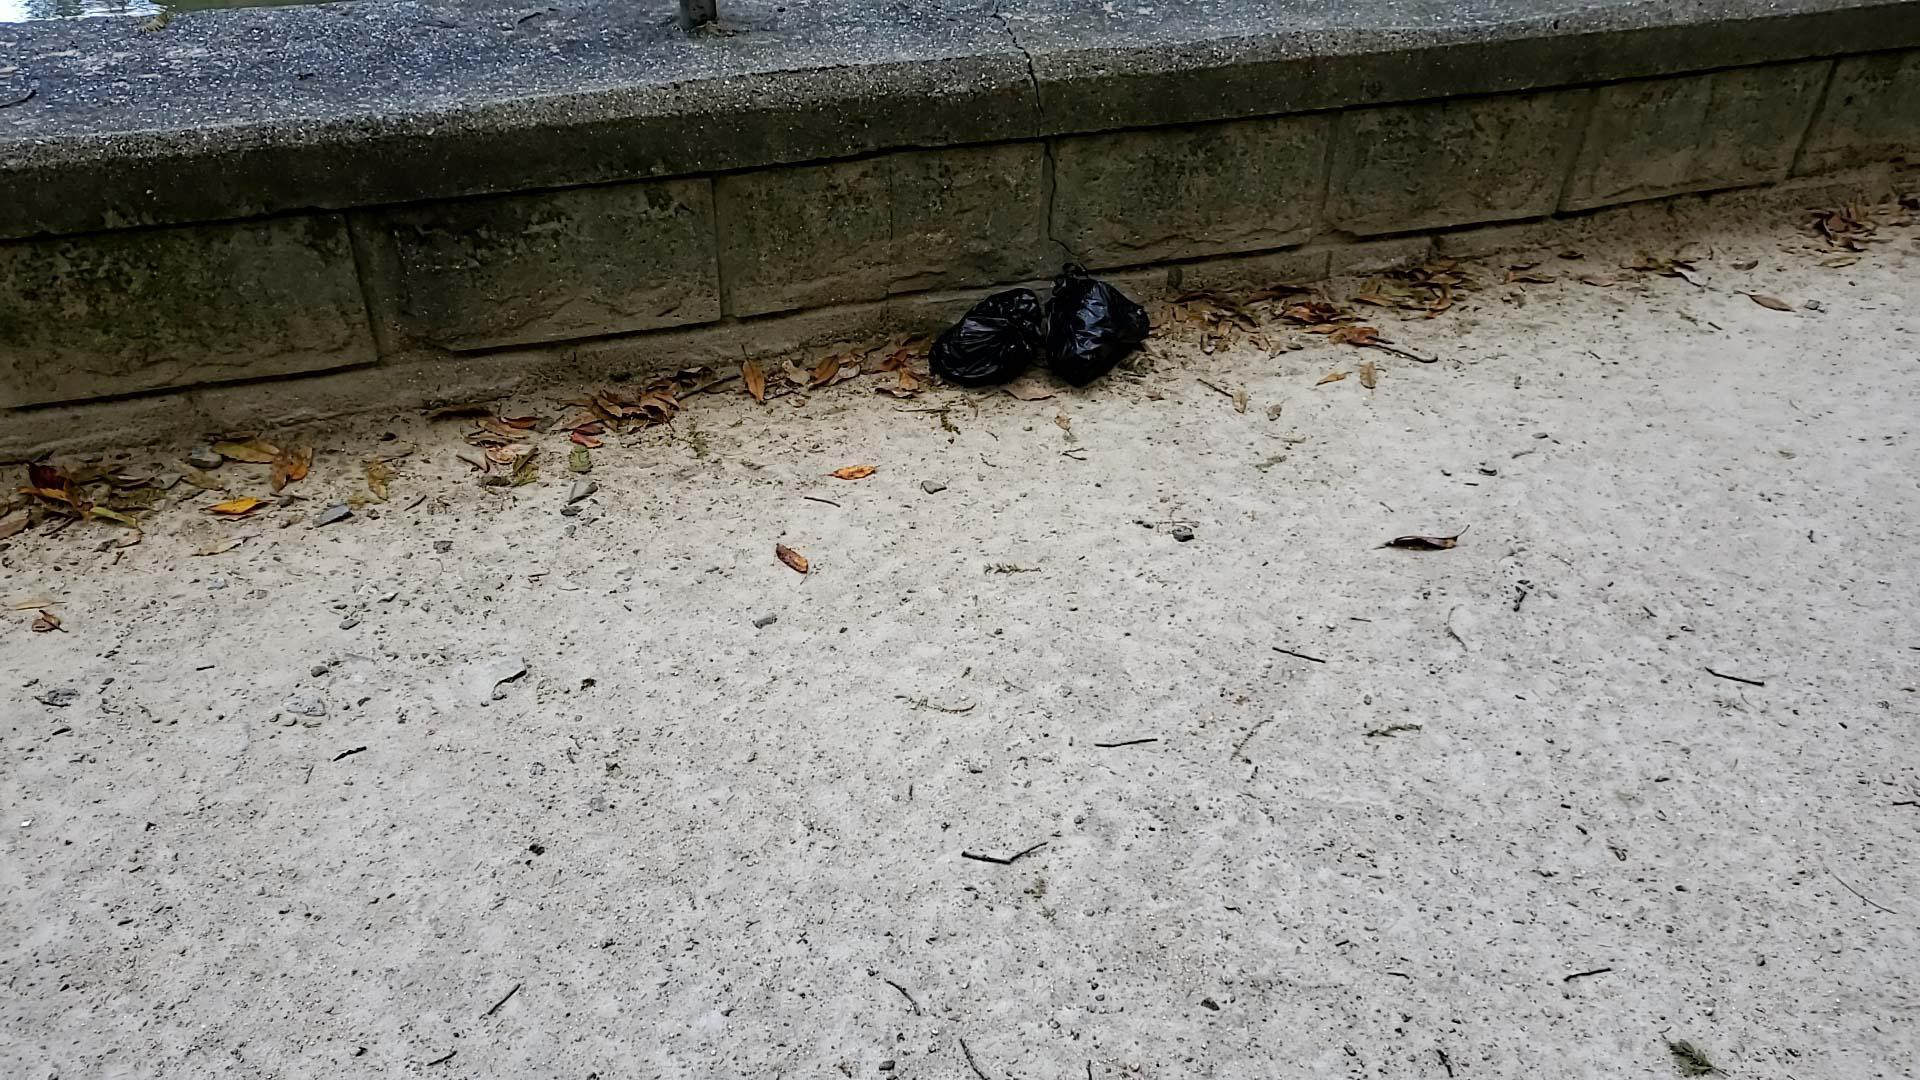black_bag: (1026, 252, 1162, 401), (914, 273, 1046, 397)
